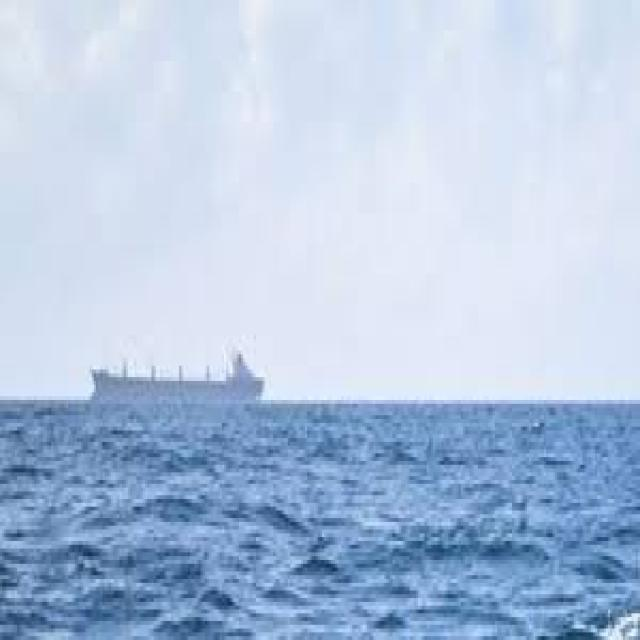cargoship: (87, 342, 266, 402)
